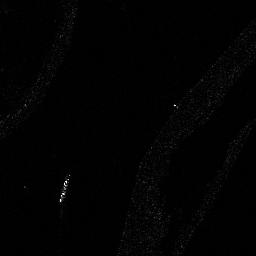ship: (56, 174, 72, 203)
